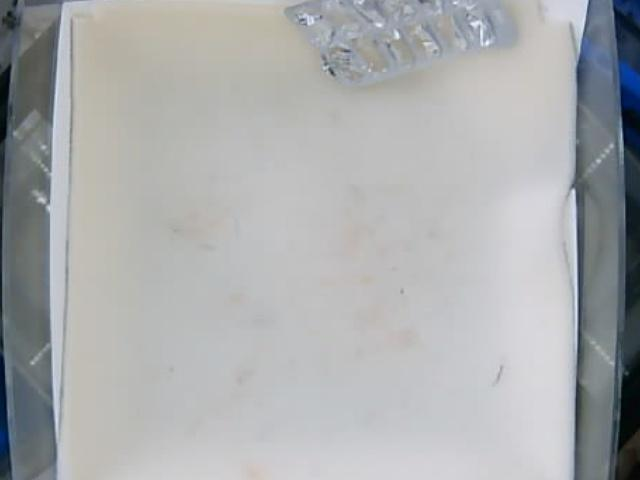Medicine: (286, 1, 519, 88)
